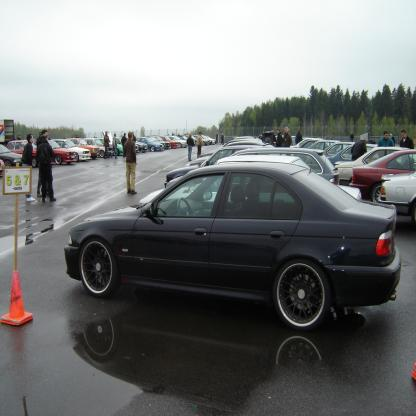Car: (65, 133, 416, 330), (1, 134, 215, 177)
